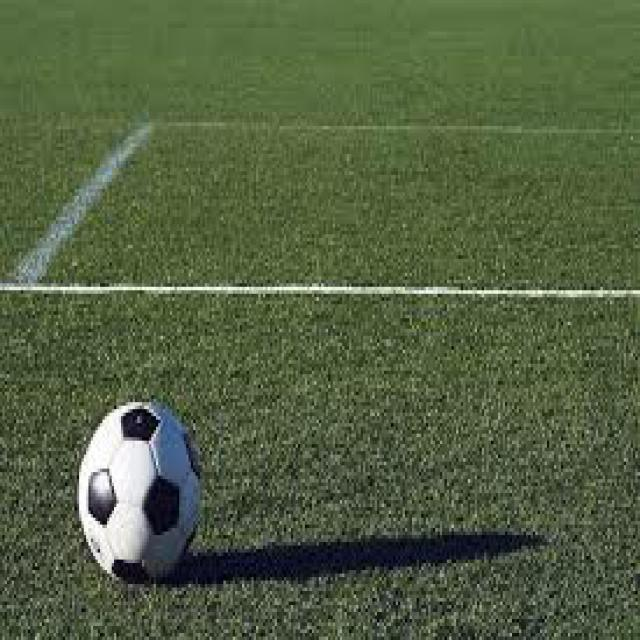ball: (73, 393, 205, 589)
